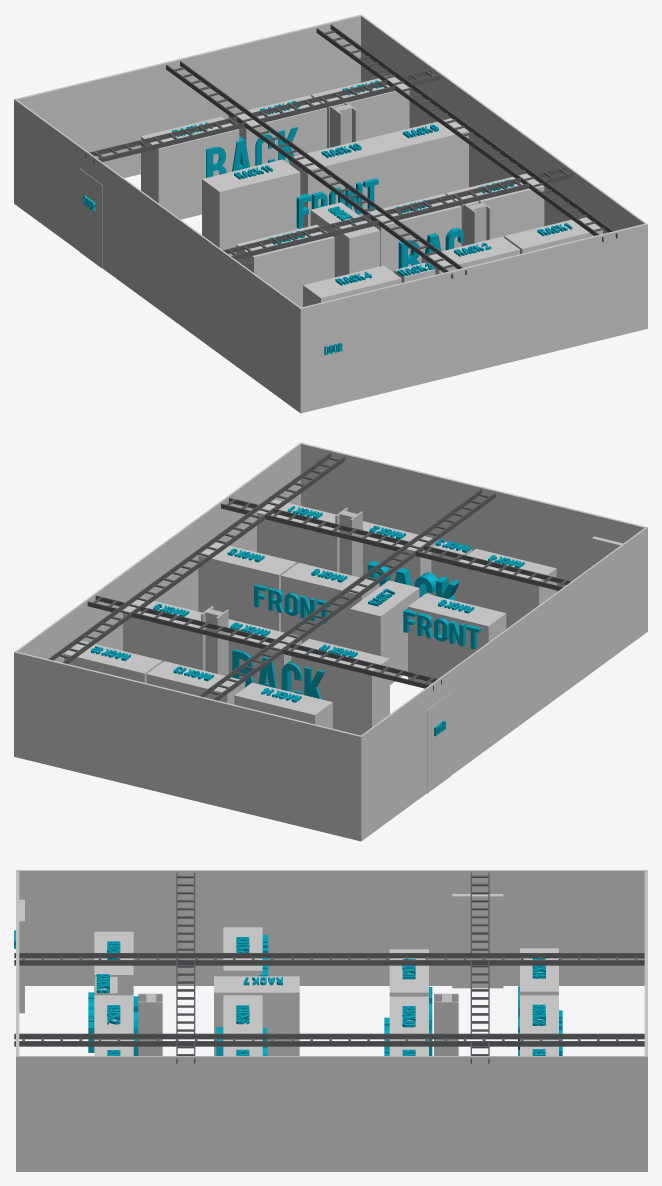
Rendered from M1 South Computer Room Floorplan.glb.
The picture shows the model from 3 angles, top to bottom: view 1: azimuth 30°, elevation 25°; view 2: azimuth 150°, elevation 25°; view 3: azimuth 270°, elevation 25°; orthographic projection. The views are drawn at different scales.
Visible parts, largest first — view 1: Mesh_Mesh_head_geo.001_lambert2SG.001; view 2: Mesh_Mesh_head_geo.001_lambert2SG.001; view 3: Mesh_Mesh_head_geo.001_lambert2SG.001.
Boxes of the visible parts, box(x1,y1,x2,y2) form: Mesh_Mesh_head_geo.001_lambert2SG.001: box(14, 14, 647, 413); Mesh_Mesh_head_geo.001_lambert2SG.001: box(14, 442, 647, 841); Mesh_Mesh_head_geo.001_lambert2SG.001: box(14, 870, 647, 1171).
Size of the model in its own units: 421 by 120 by 599.
